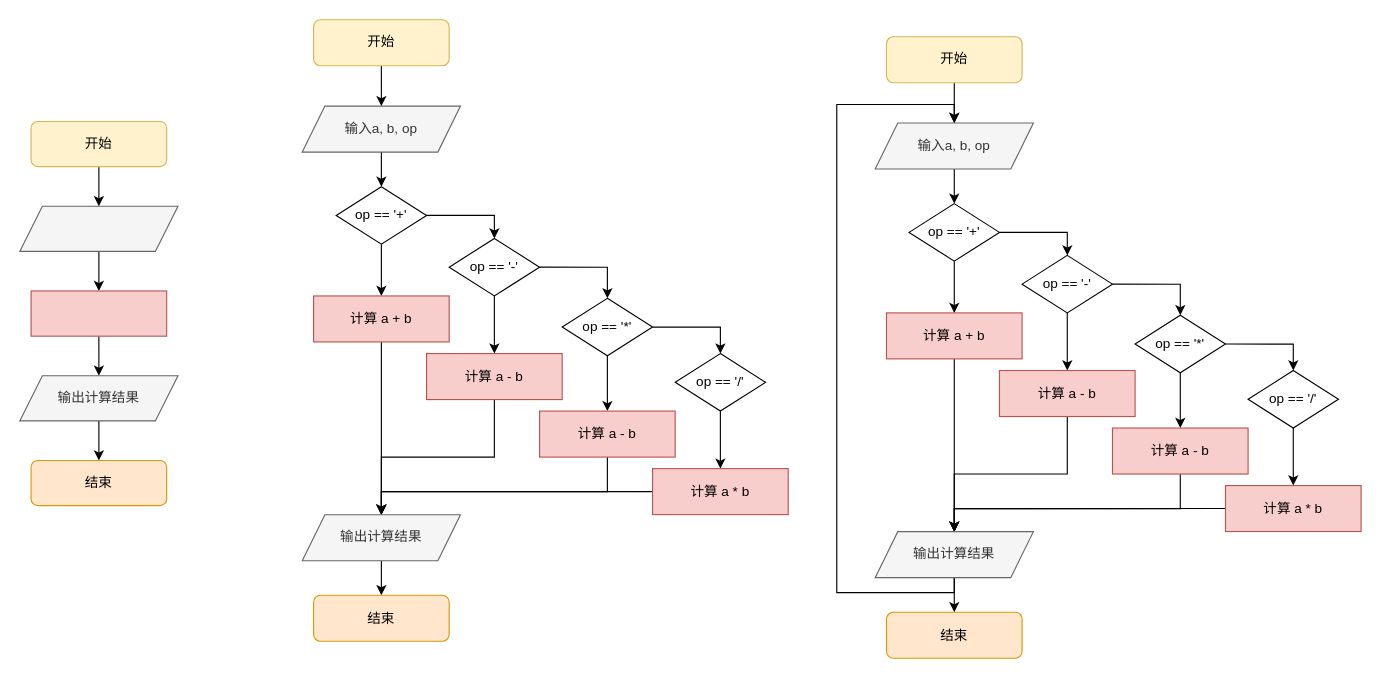
Some shapes in this 1381 by 678 pixel diagram are drawn without their labels. Each missing label, with the centre of its shape:
"算数运算 + - * /" goes at [98,313].
"输入a, b" goes at [98,228].
